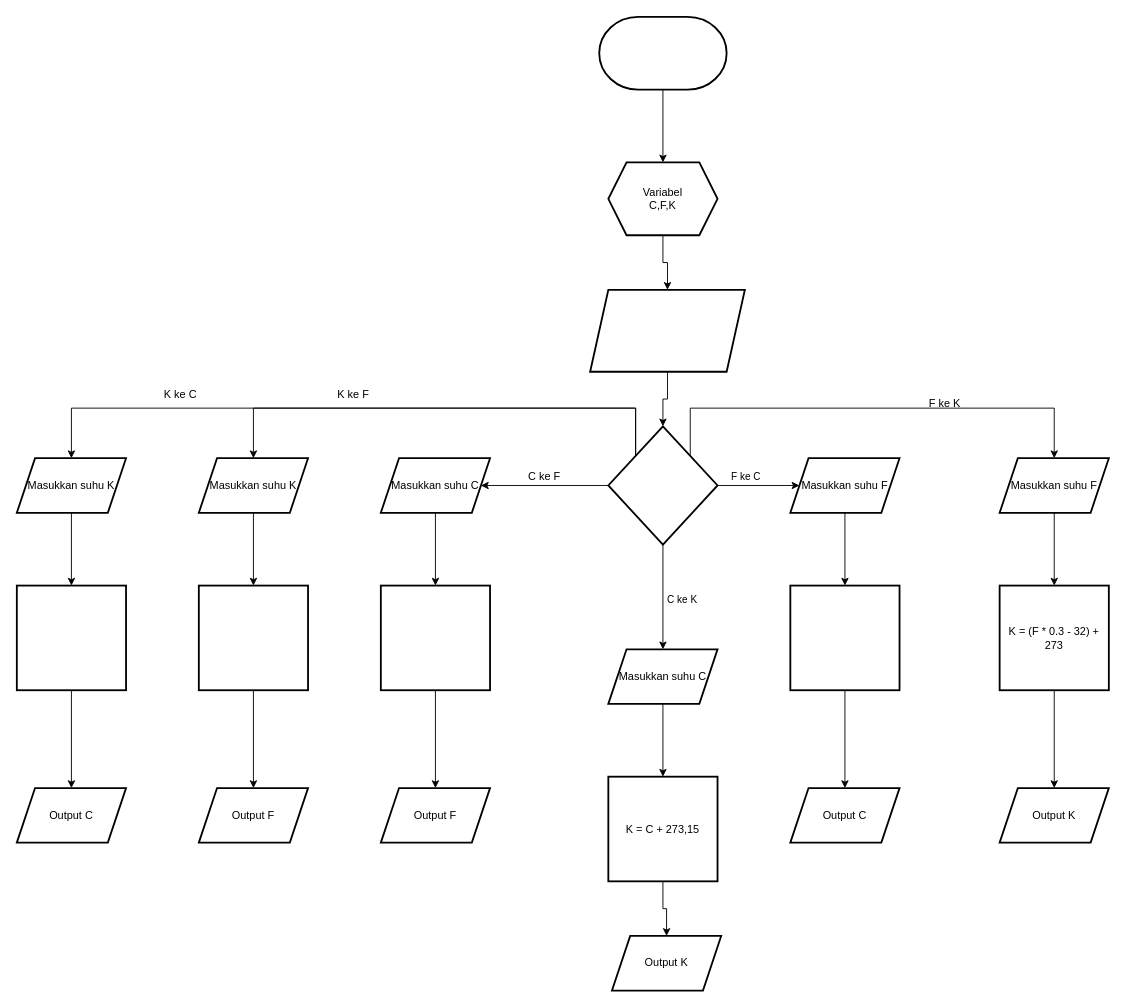
Image size: 1125x1006. Some labels were removed from this diagram. The shapes that lost their labels are listed below. From the top down, each one's centre as x and y in pixels, then its label:
point (662, 52): Start
point (667, 330): Masukkan pilihan konversi suhu
point (662, 485): Pilih C,F,atau K
point (70, 637): C = K - 27
point (252, 637): F = K * 1,8 + 273 + 32
point (434, 637): F = C * 1,8 + 32
point (844, 637): C = F * 0,5 - 32
